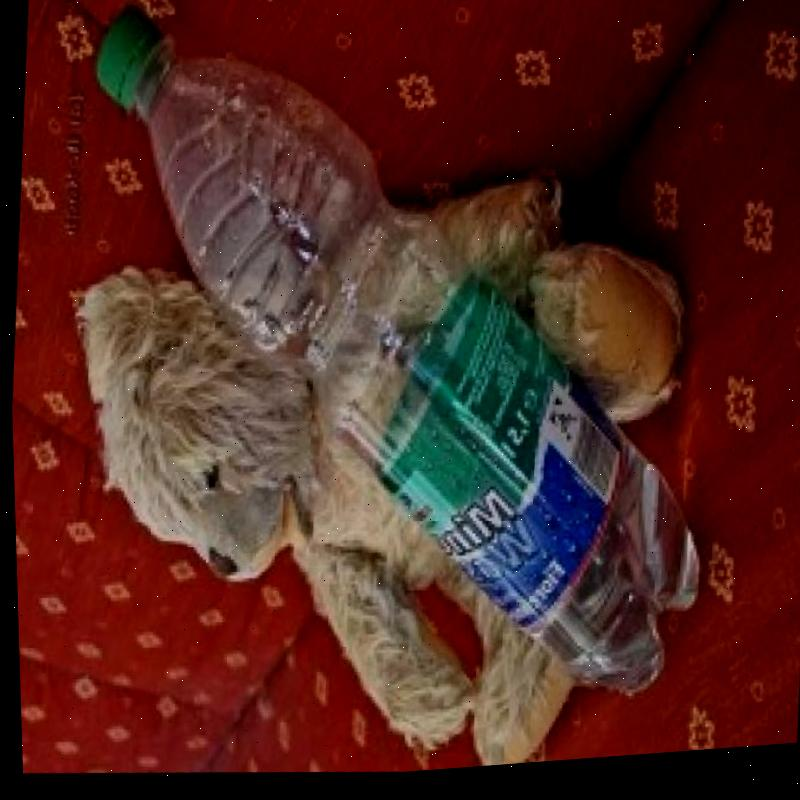botella: (44, 0, 746, 746)
